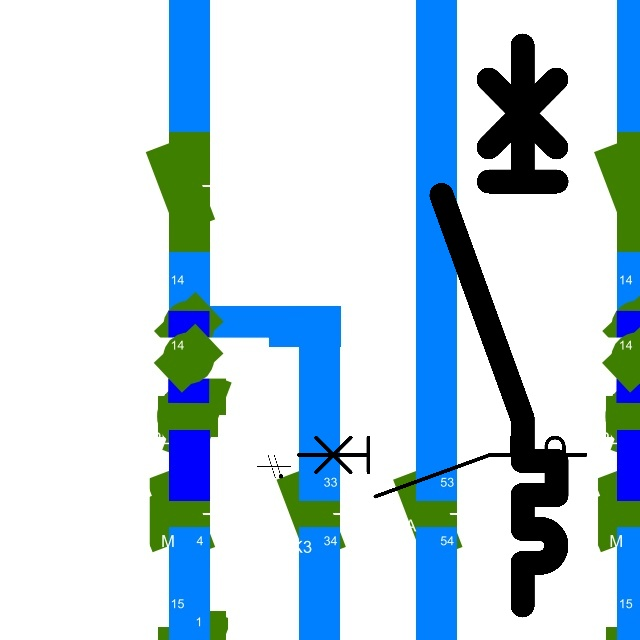interruptor_termomagnetico: (427, 31, 571, 620), (291, 430, 593, 504)
